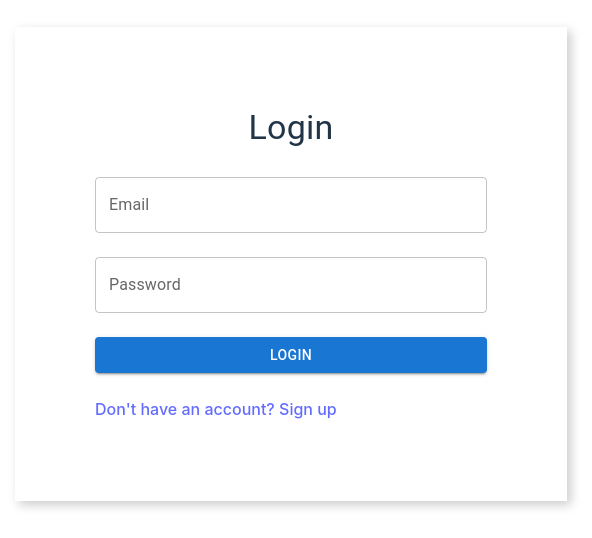
Login component › Error in fetching the data :Email valiation fails
In the field labelled "Email": (291, 205) [95,177,487,233], type "johndoeexamplecom"
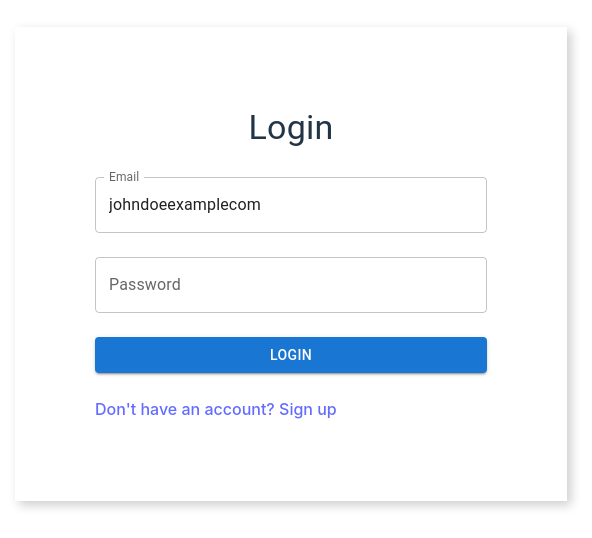
In the password field labelled "Password": (291, 285) [95,257,487,313], type "Password123!"
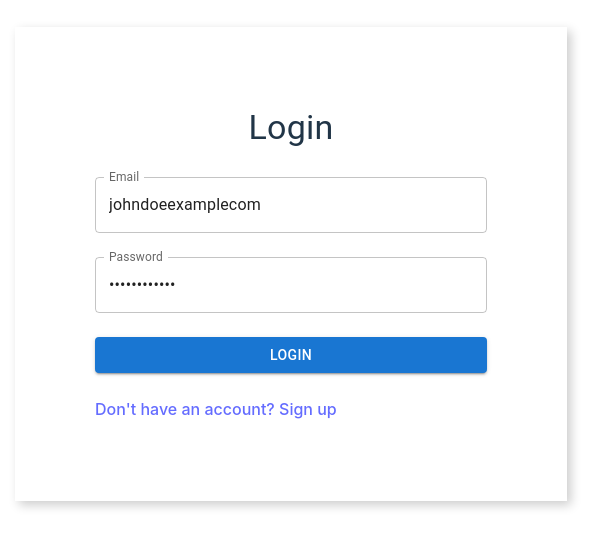
Click the button "Login": (291, 355) [95,337,487,373]
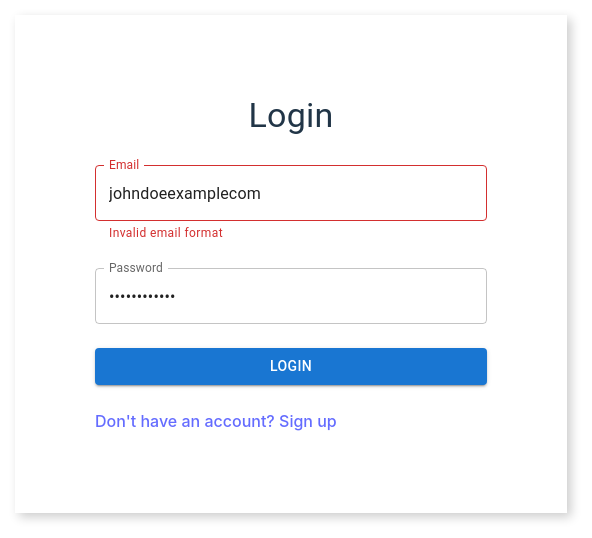
Check: the text "Invalid email format" is shown, box [109,226,223,240]
